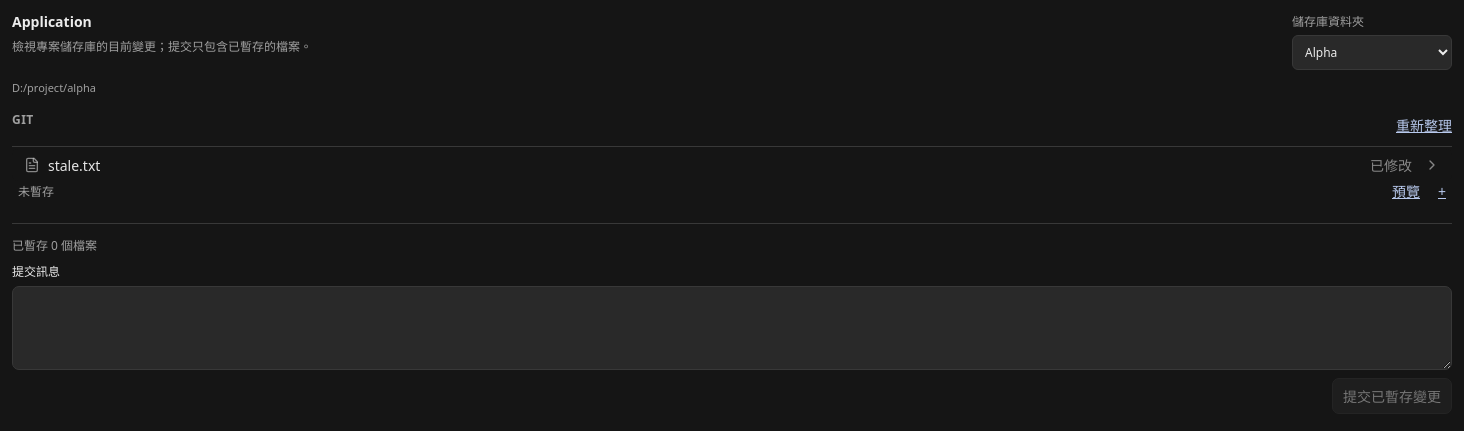
Test case: ProjectGitPane › revalidates native membership before a mutation and never stages a removed member
The image size is (1464, 431).
Click the button named "暫存 stale.txt": [1442, 191] box [1438,182,1446,200]
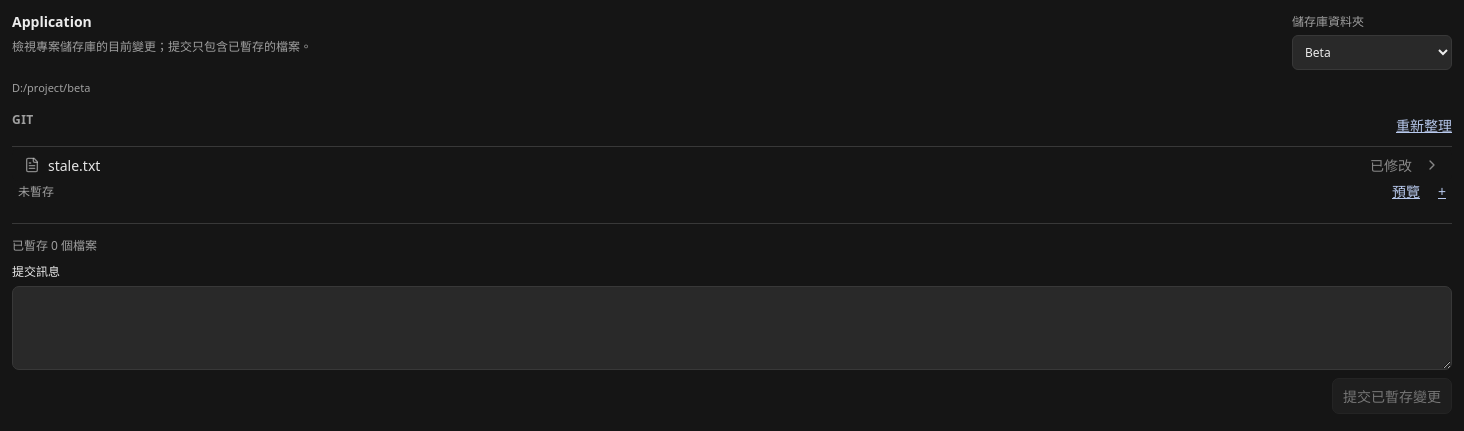
Expected: the dropdown labelled "儲存庫資料夾" shows "Beta", [1292,35,1452,70]
